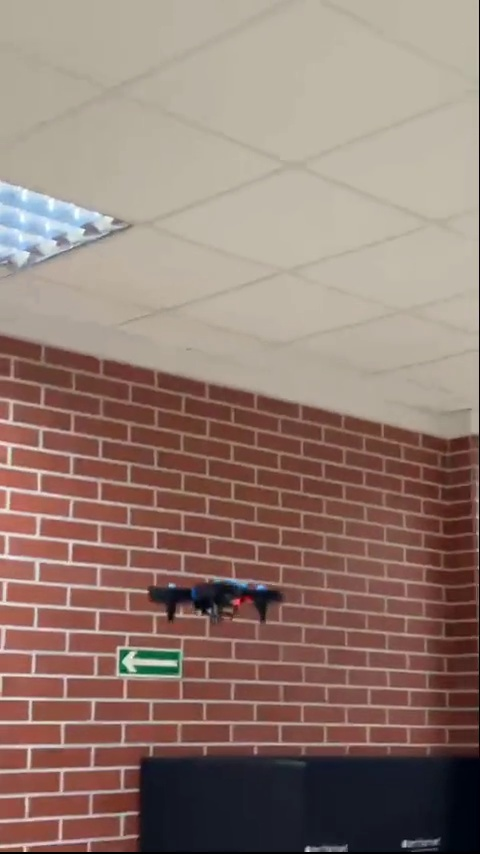drone: (143, 575, 284, 623)
